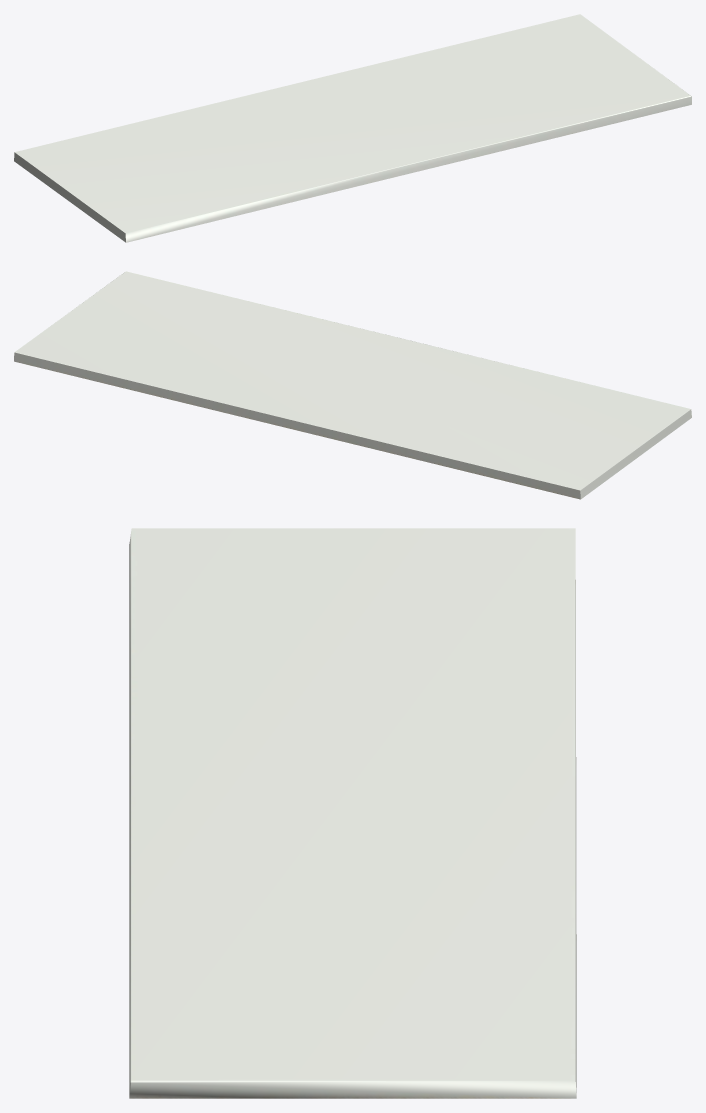
The model's file is JÄRSTORP Plan de travail, blanc-stratifié, 186x2.8 cm.glb.
The picture shows the model from 3 angles, top to bottom: view 1: azimuth 30°, elevation 25°; view 2: azimuth 150°, elevation 25°; view 3: azimuth 270°, elevation 25°; orthographic projection. The views are drawn at different scales.
Visible parts, largest first — view 1: ASY_ART_10589650_S01_NV01; view 2: ASY_ART_10589650_S01_NV01; view 3: ASY_ART_10589650_S01_NV01.
Boxes of the visible parts, <box> form: ASY_ART_10589650_S01_NV01: <box>14,14,691,242</box>; ASY_ART_10589650_S01_NV01: <box>14,271,691,499</box>; ASY_ART_10589650_S01_NV01: <box>129,528,576,1098</box>.
Bounding box in the file's own units: 1.86 × 0.0284 × 0.6366.
1 material, 1 textured.
